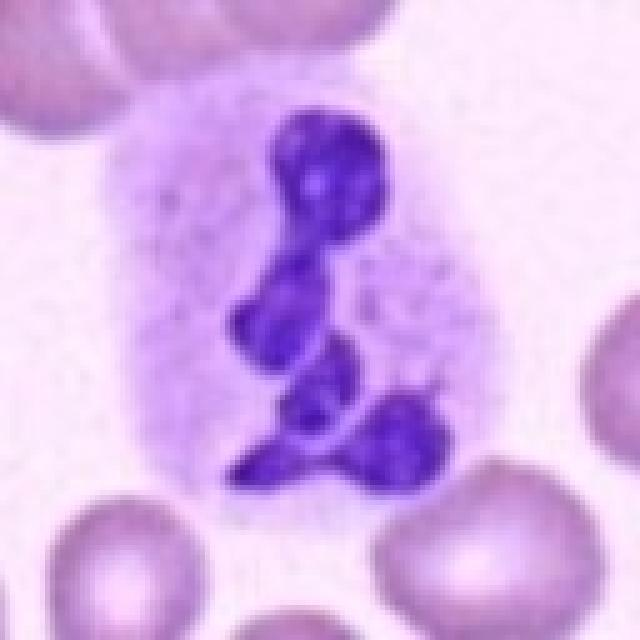neutro: (131, 75, 553, 521)
